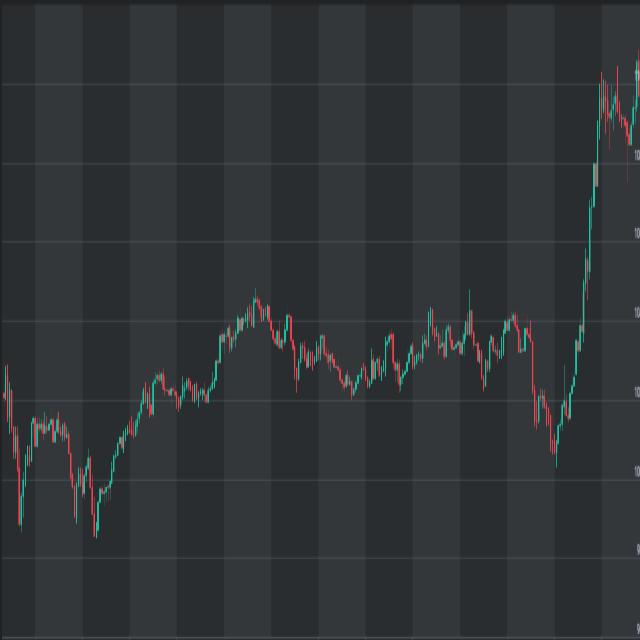Descending-Triangle: (210, 204, 379, 410)
Resistance-breakout: (482, 76, 598, 470), (75, 342, 164, 548)
